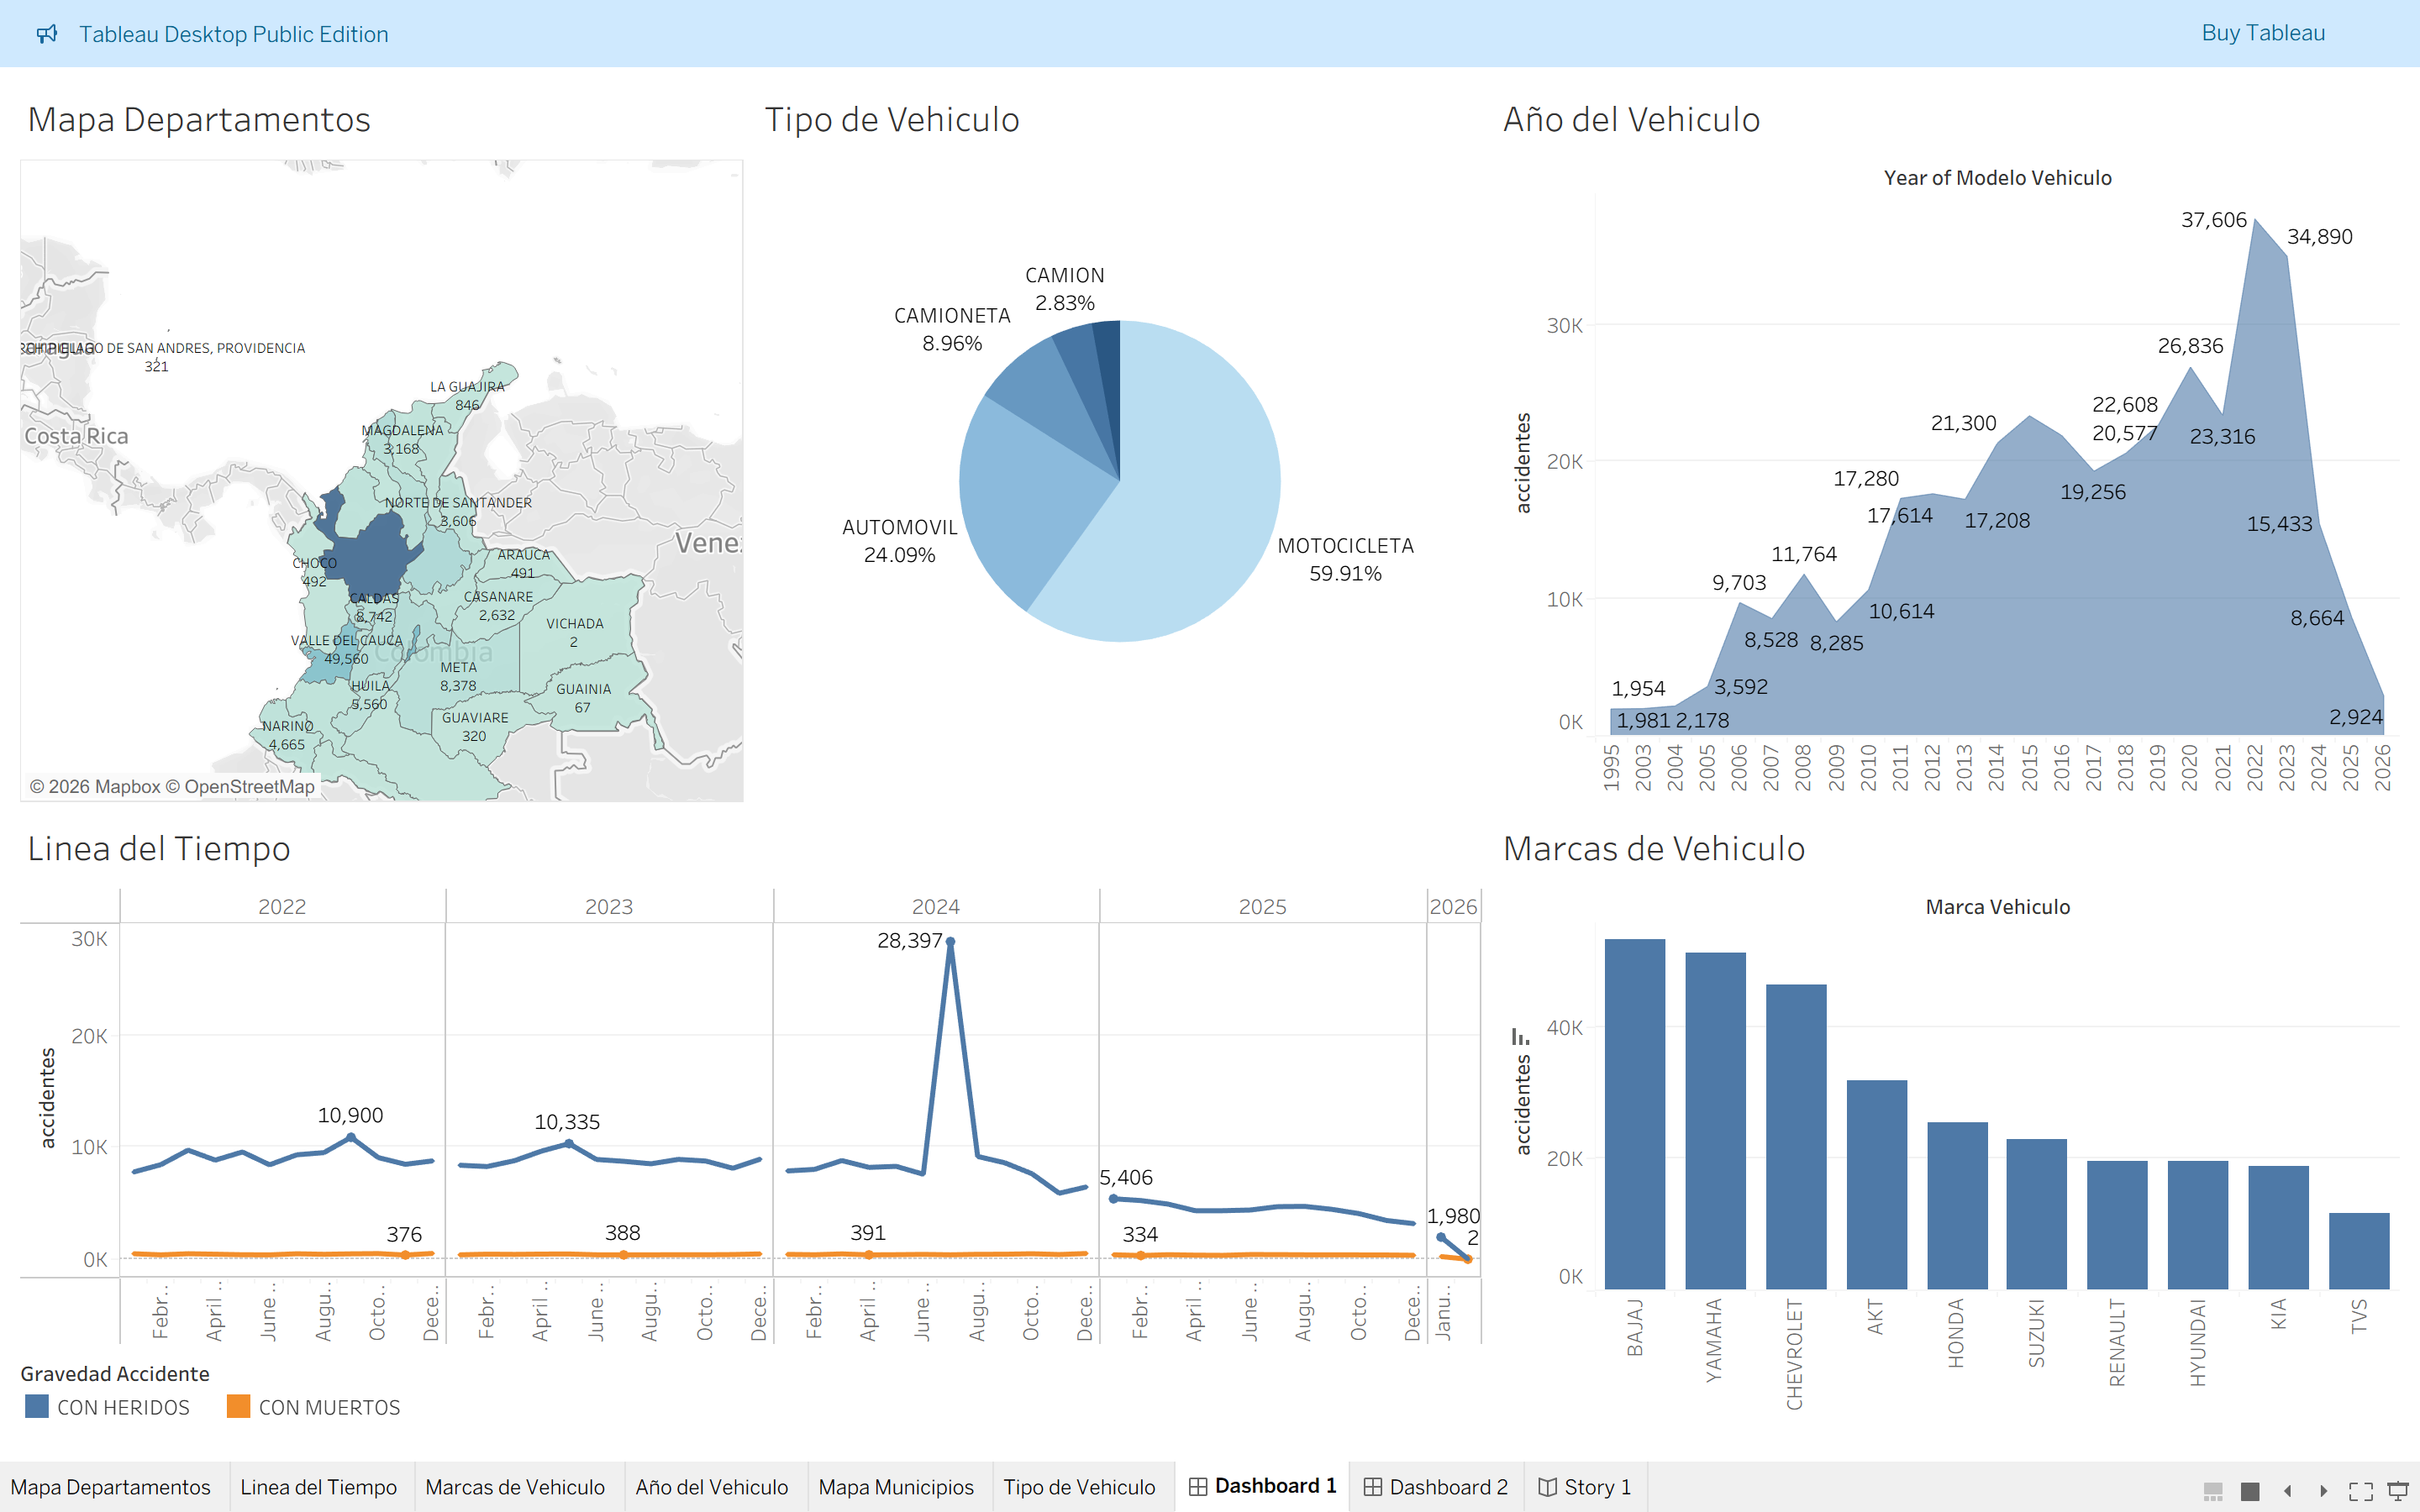

The dashboard page shown, as its layout file describes it:
{"tool":"tableau","page":{"name":"Dashboard 1","canvas":[1000,1000],"units":"permille","ordinal":0},"visuals":[{"type":"worksheet","title":"Mapa Departamentos","mark":"Automatic","box":[6.5,11.8,271.4,520.7]},{"type":"worksheet","title":"Tipo de Vehiculo","mark":"Pie","box":[277.9,11.8,271.4,520.7]},{"type":"worksheet","title":"Año del Vehiculo","mark":"Area","rows":["Calculation_2252940019654657"],"cols":["MODELO_VEHICULO"],"box":[549.2,11.8,444.3,520.7]},{"type":"worksheet","title":"Linea del Tiempo","mark":"Line","rows":["Calculation_2252940019654657"],"cols":["FECHA_ACCIDENTE","FECHA_ACCIDENTE"],"box":[6.5,532.5,542.7,387.6]},{"type":"worksheet","title":"Marcas de Vehiculo","mark":"Automatic","rows":["Calculation_2252940019654657"],"cols":["MARCA_VEHICULO"],"box":[549.2,532.5,444.3,455.6]},{"type":"legend","title":"Linea del Tiempo","param":"[federated.0426ukg05oqnnb1dobn1a0ltpp0v].[none:GRAVEDAD_ACCIDENTE:nk]","box":[6.5,920.1,542.7,68]}]}

Visuals, with their boxes on the dashboard's canvas, which has no fixed pixel size, in thousandths of its width and height (x1, y1, x2, y2). These are canvas units, not pixel positions in the 2420x1512 screenshot, which may show the page scaled, cropped or inside an application window:
"Mapa Departamentos" worksheet: (x1=6, y1=12, x2=278, y2=532)
"Tipo de Vehiculo" worksheet (Pie marks): (x1=278, y1=12, x2=549, y2=532)
"Año del Vehiculo" worksheet (Area marks): (x1=549, y1=12, x2=994, y2=532)
"Linea del Tiempo" worksheet (Line marks): (x1=6, y1=532, x2=549, y2=920)
"Marcas de Vehiculo" worksheet: (x1=549, y1=532, x2=994, y2=988)
"Linea del Tiempo" legend: (x1=6, y1=920, x2=549, y2=988)
